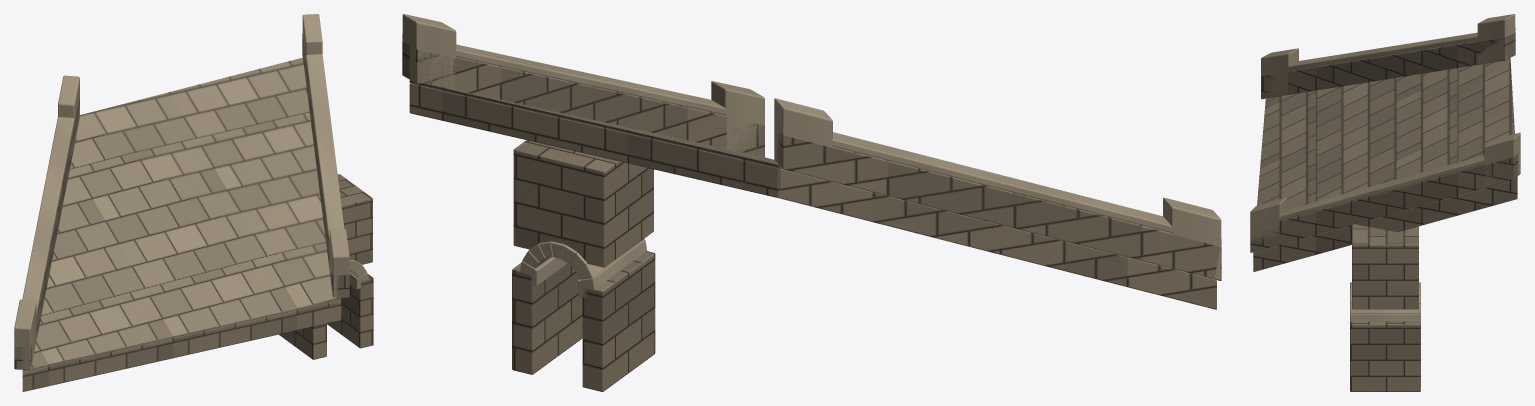
File: BridgeFamilyV1.glb
3 views of the same model, side by side, from view 1: azimuth 30°, elevation 25°; view 2: azimuth 150°, elevation 25°; view 3: azimuth 270°, elevation 25° (orthographic). The views are drawn at different scales.
Visible parts, largest first — view 1: Bridge_Deck, Bridge_ParapetL, Bridge_ParapetR, Bridge_Support; view 2: Bridge_Support, Bridge_Deck, Bridge_ParapetL, Bridge_ParapetR; view 3: Bridge_Deck, Bridge_Support, Bridge_ParapetR, Bridge_ParapetL.
Part boxes in pixels (left/top/right/bottom): Bridge_Deck: left=22, top=57, right=341, bottom=391; Bridge_ParapetL: left=14, top=75, right=79, bottom=370; Bridge_ParapetR: left=302, top=14, right=349, bottom=297; Bridge_Support: left=279, top=174, right=373, bottom=359; Bridge_Support: left=512, top=140, right=655, bottom=391; Bridge_Deck: left=409, top=80, right=1216, bottom=309; Bridge_ParapetL: left=774, top=98, right=1221, bottom=280; Bridge_ParapetR: left=402, top=14, right=764, bottom=157; Bridge_Deck: left=1253, top=58, right=1517, bottom=271; Bridge_Support: left=1350, top=224, right=1420, bottom=391; Bridge_ParapetR: left=1250, top=132, right=1520, bottom=252; Bridge_ParapetL: left=1261, top=14, right=1515, bottom=99.
Size of the model in its own units: 13.96 by 8.32 by 7.65.
3 materials, 3 textured.
